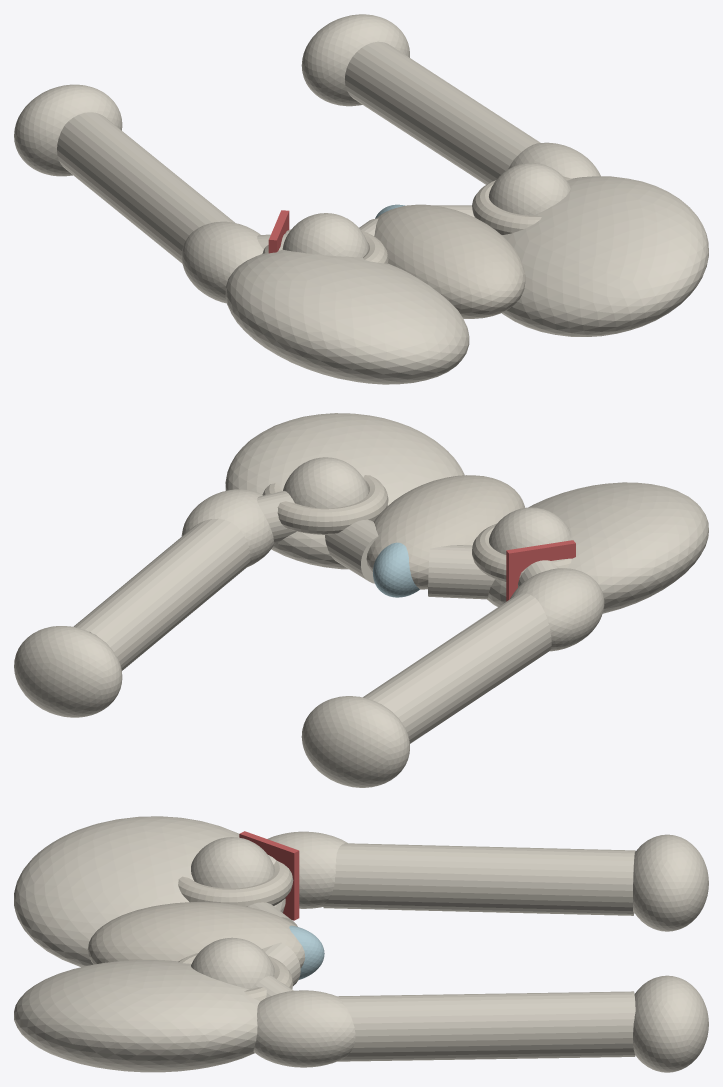
File: hip_femur_educational.glb
3 views of the same model, one above another, from view 1: azimuth 30°, elevation 25°; view 2: azimuth 150°, elevation 25°; view 3: azimuth 270°, elevation 25° (orthographic).
Parts seen in each view (by area): view 1: Ilium Kiri, Ilium Kanan, Batang Femur Kiri, Sakrum, Batang Femur Kanan, Kondilus Femur Kiri, Kondilus Femur Kanan, Trokanter Mayor Kanan, Kepala Femur Kiri, Kepala Femur Kanan, Trokanter Mayor Kiri, Asetabulum Kiri (+1 smaller); view 2: Ilium Kanan, Ilium Kiri, Batang Femur Kanan, Batang Femur Kiri, Sakrum, Kondilus Femur Kiri, Kondilus Femur Kanan, Trokanter Mayor Kanan, Kepala Femur Kiri, Asetabulum Kiri, Trokanter Mayor Kiri, Ramus Pubis Kanan (+6 smaller); view 3: Ilium Kiri, Batang Femur Kanan, Batang Femur Kiri, Ilium Kanan, Sakrum, Trokanter Mayor Kiri, Kondilus Femur Kanan, Kondilus Femur Kiri, Kepala Femur Kanan, Trokanter Mayor Kanan, Kepala Femur Kiri, Asetabulum Kanan (+5 smaller).
Part boxes in pixels (x1,y1,x2,y2): Ilium Kiri: (502,176,708,336); Ilium Kanan: (225,249,469,384); Batang Femur Kiri: (345,41,540,184); Sakrum: (374,204,525,318); Batang Femur Kanan: (57,112,234,263); Kondilus Femur Kiri: (301,14,409,106); Kondilus Femur Kanan: (14,84,122,176); Trokanter Mayor Kanan: (181,221,263,303); Kepala Femur Kiri: (489,163,570,215); Kepala Femur Kanan: (282,213,368,257); Trokanter Mayor Kiri: (508,142,600,178); Asetabulum Kiri: (472,176,571,234); Ilium Kanan: (487,482,708,613); Ilium Kiri: (225,413,464,569); Batang Femur Kanan: (363,593,551,743); Batang Femur Kiri: (73,518,250,670); Sakrum: (366,475,524,589); Kondilus Femur Kiri: (14,626,122,717); Kondilus Femur Kanan: (301,696,409,787); Trokanter Mayor Kanan: (510,568,604,651); Kepala Femur Kiri: (283,457,368,534); Asetabulum Kiri: (262,475,388,534); Trokanter Mayor Kiri: (181,489,274,567); Ramus Pubis Kanan: (428,545,494,599); Ilium Kiri: (14,960,260,1072); Batang Femur Kanan: (323,843,635,915); Batang Femur Kiri: (337,991,635,1061); Ilium Kanan: (14,816,285,967); Sakrum: (87,902,304,967); Trokanter Mayor Kiri: (253,990,355,1067); Kondilus Femur Kanan: (633,834,708,931); Kondilus Femur Kiri: (633,975,708,1072); Kepala Femur Kanan: (191,837,274,888); Trokanter Mayor Kanan: (267,831,347,908); Kepala Femur Kiri: (191,937,274,989); Asetabulum Kanan: (178,860,293,906).
Size of the model in its own units: 3.43 by 0.847 by 4.66.
